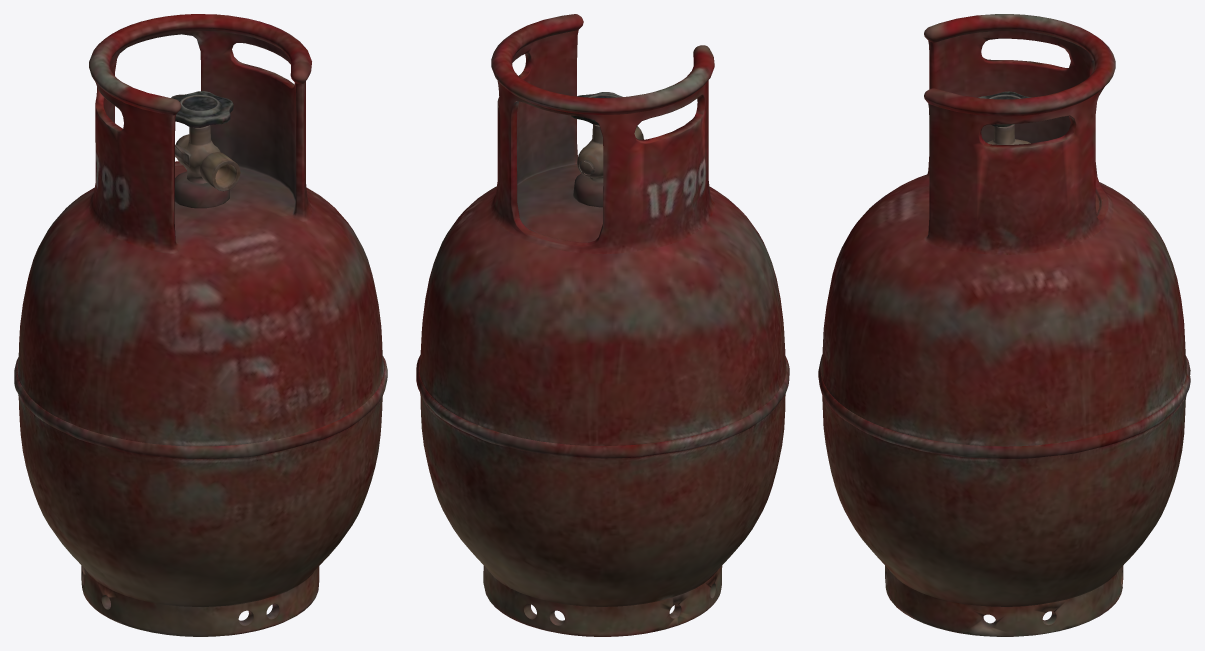
Rendered from small_lpg_tank.glb.
The picture shows the model from 3 angles, left to right: view 1: azimuth 30°, elevation 25°; view 2: azimuth 150°, elevation 25°; view 3: azimuth 270°, elevation 25°; orthographic projection.
Parts seen in each view (by area): view 1: small_lpg_tank; view 2: small_lpg_tank; view 3: small_lpg_tank.
Part boxes in pixels (x1,y1,x2,y2): small_lpg_tank: (14, 14, 387, 636); small_lpg_tank: (416, 14, 789, 636); small_lpg_tank: (818, 14, 1190, 636).
Bounding box in the file's own units: 0.41 × 0.642 × 0.4092.
Materials: 1 (1 with a texture image).
